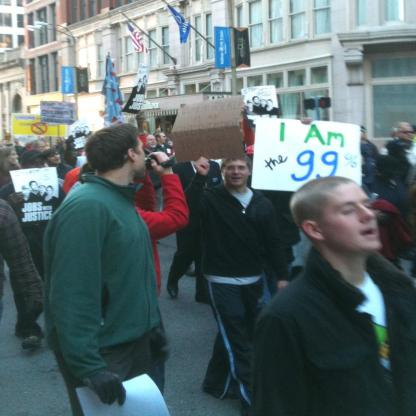face: (327, 189, 383, 251), (129, 137, 147, 178), (225, 161, 250, 186), (30, 160, 46, 175), (401, 128, 415, 143), (48, 152, 62, 165), (9, 152, 20, 166), (148, 138, 158, 148), (160, 134, 168, 144), (39, 144, 47, 153), (47, 189, 53, 195), (63, 144, 69, 150), (40, 187, 45, 194), (169, 143, 175, 148), (32, 185, 37, 191), (24, 191, 30, 196), (27, 143, 33, 148), (254, 99, 260, 104), (268, 102, 273, 107), (261, 101, 266, 105), (249, 104, 254, 108), (54, 144, 58, 148), (4, 141, 7, 145), (82, 129, 85, 132), (77, 129, 80, 132), (161, 127, 164, 130), (86, 129, 89, 131), (157, 127, 159, 129)
